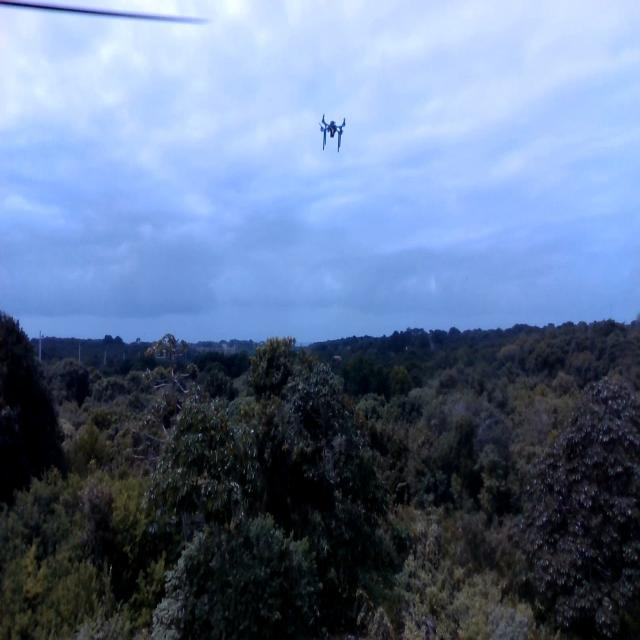-uav-: (311, 101, 353, 169)
